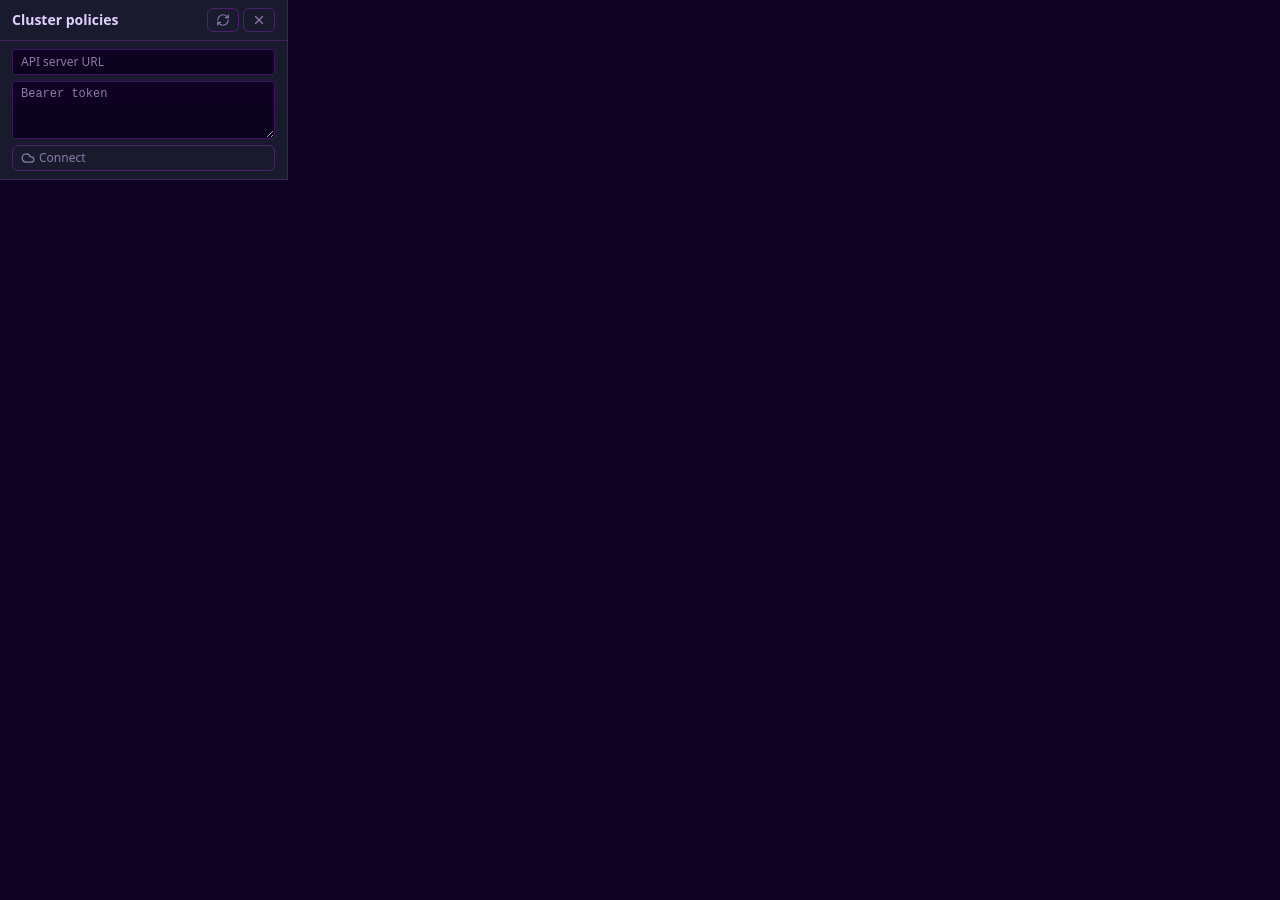
Test: delete UI › shows the open-tabs note for a single delete
Click the button named "Load policies". click: [223, 20]
box: [207,8,239,32]
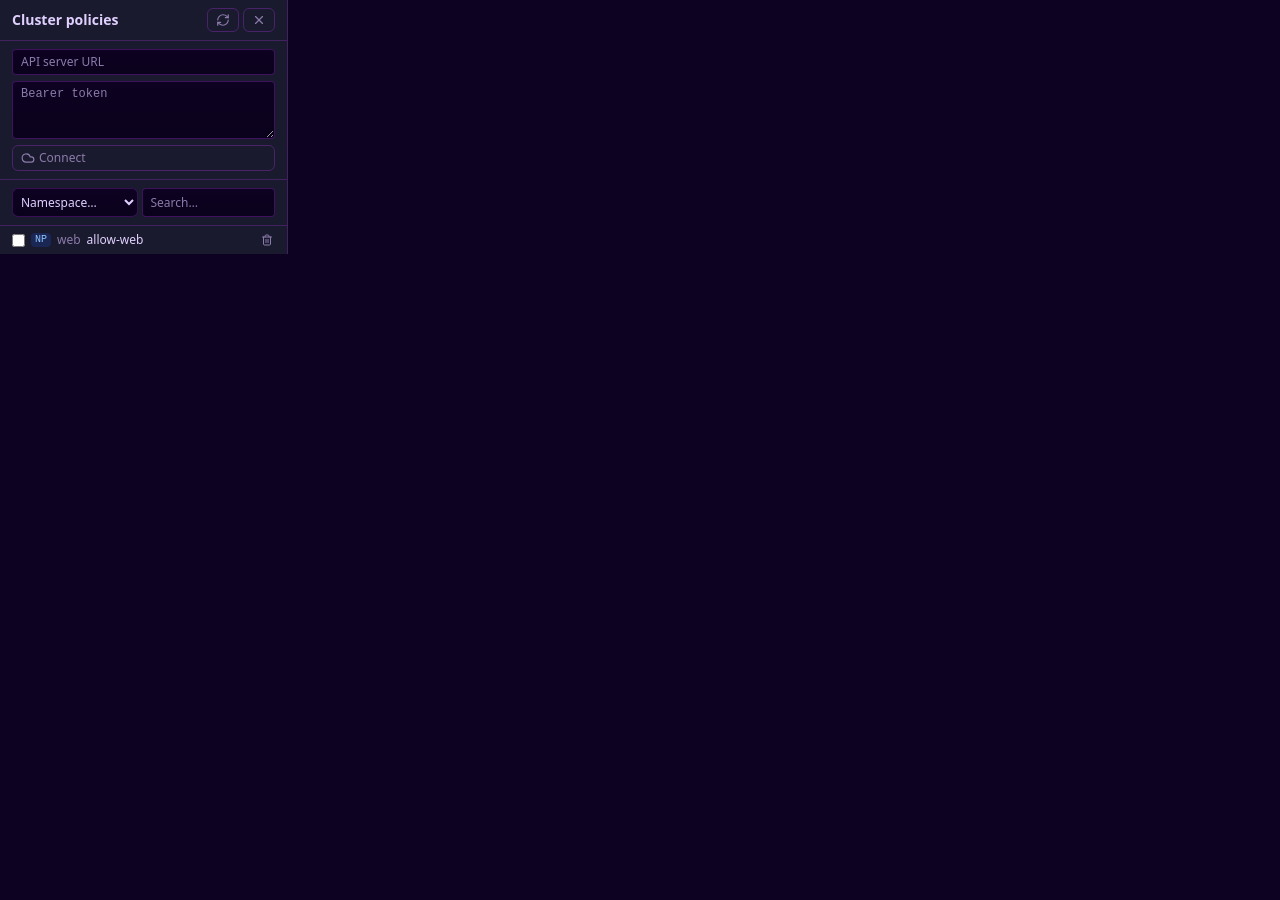
Expected: the text "allow-web" is shown, [87,232,143,248]
Click the button named "Delete: web/allow-web". click: [267, 240]
box: [259,232,275,248]
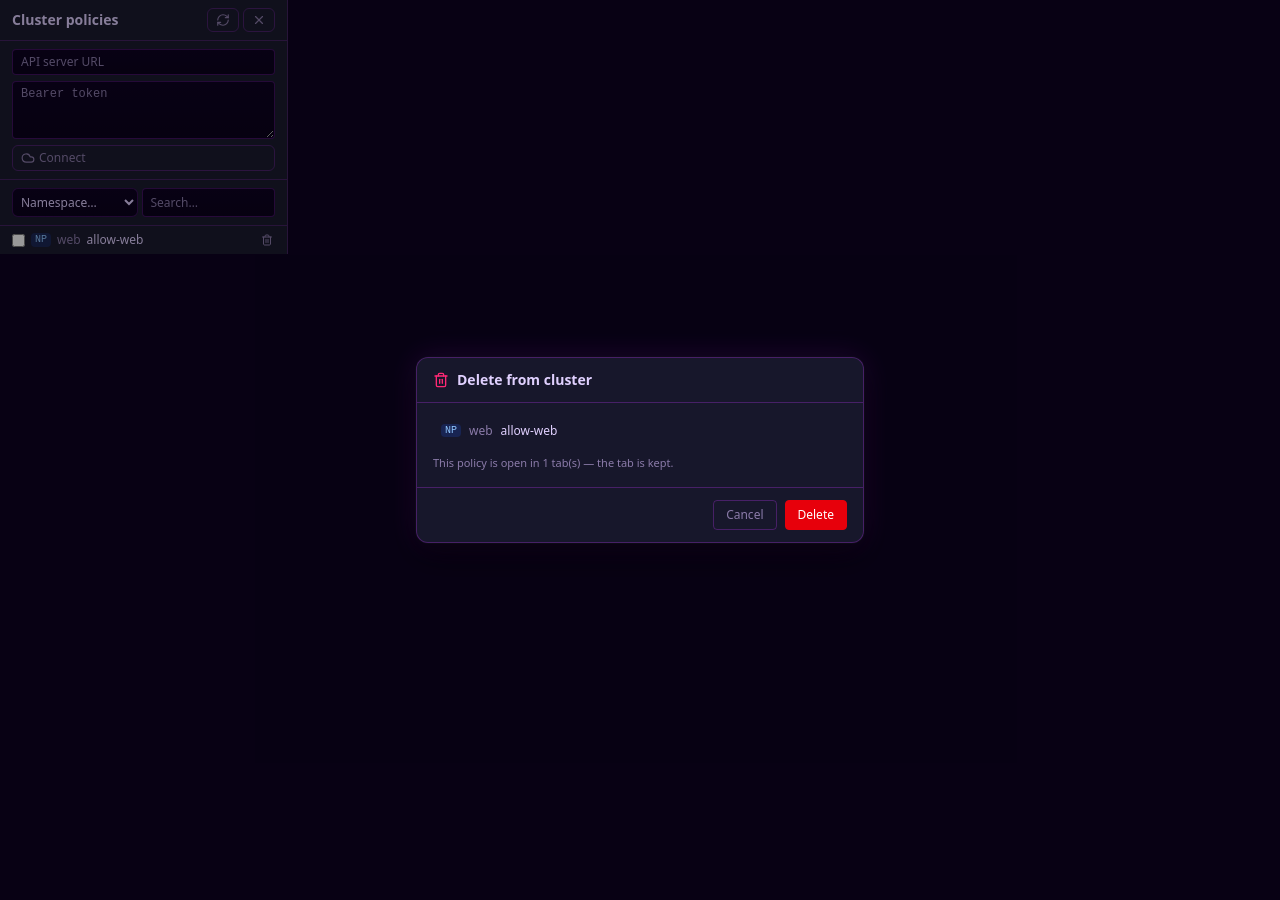
Expected: the text "This policy is open in 1 tab(s) — the tab is kept." is shown, [433,455,674,470]
